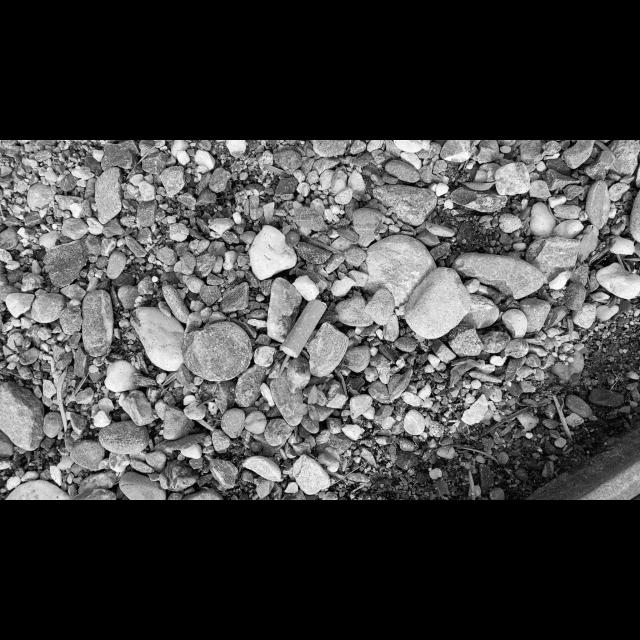cigarette: (280, 298, 328, 359)
